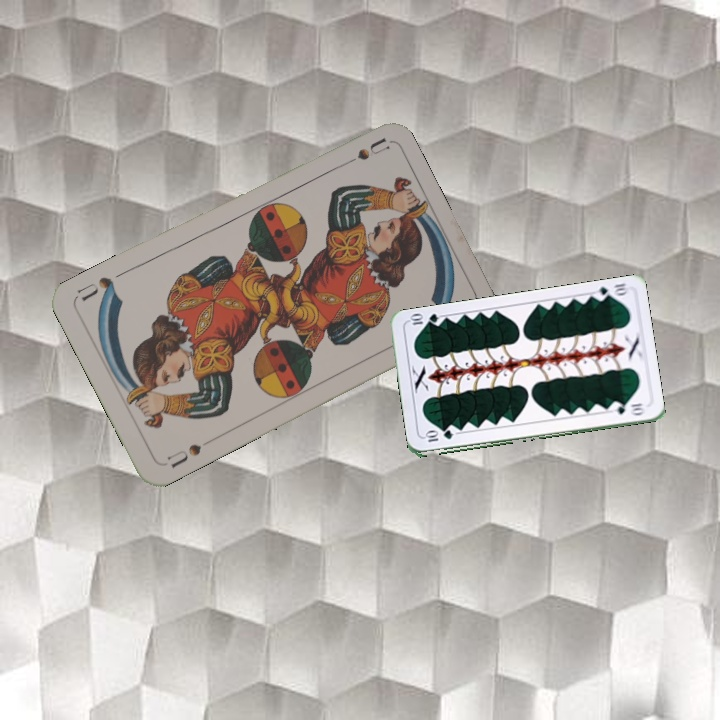G10: (590, 279, 630, 303), (421, 428, 456, 444)
SU: (333, 135, 391, 171), (163, 439, 204, 471)
